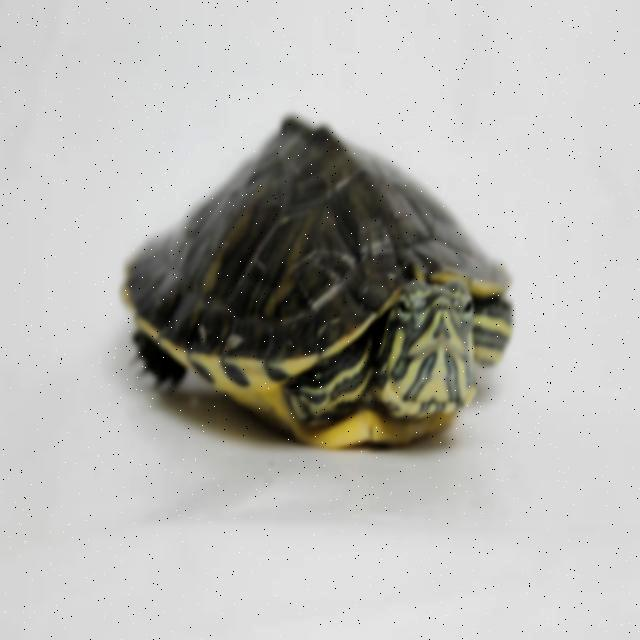tortoise: (115, 96, 521, 462)
